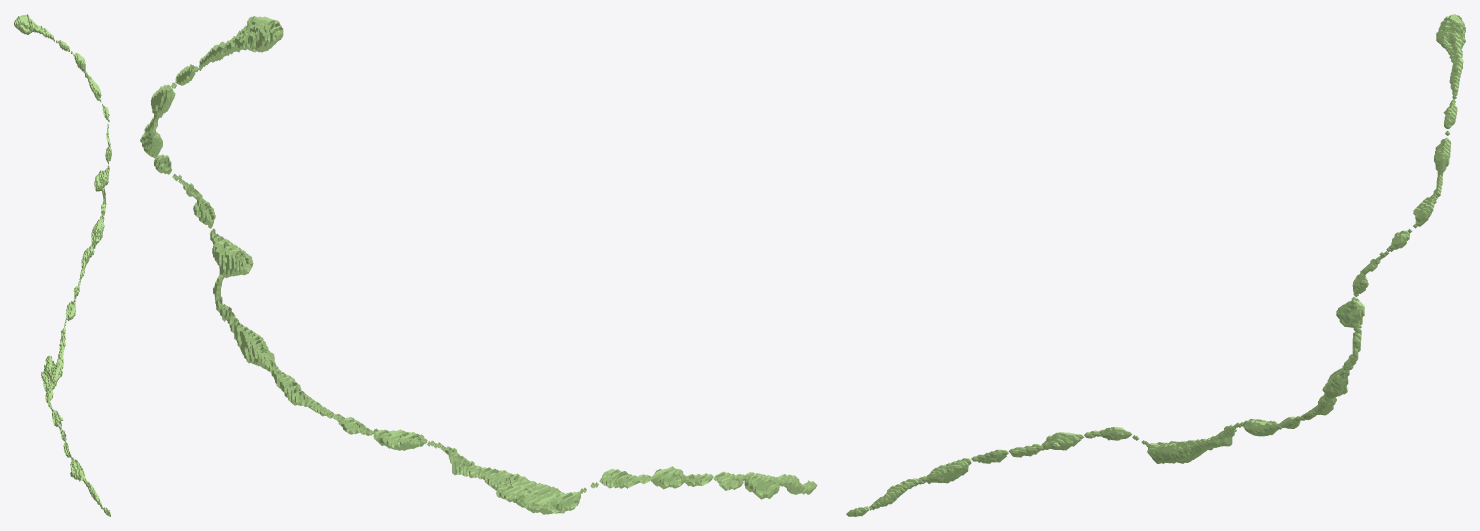
Rendered from SVV_AWBR.gltf.
3 views of the same model, side by side, from view 1: azimuth 30°, elevation 25°; view 2: azimuth 150°, elevation 25°; view 3: azimuth 270°, elevation 25° (orthographic). The views are drawn at different scales.
Visible parts, largest first — view 1: AWBR; view 2: AWBR; view 3: AWBR.
Boxes of the visible parts, x1,y1,x2,y2 form: AWBR: [14, 14, 111, 516]; AWBR: [140, 16, 817, 514]; AWBR: [846, 14, 1465, 516].
Bounding box in the file's own units: 85213 × 162261 × 158536.
